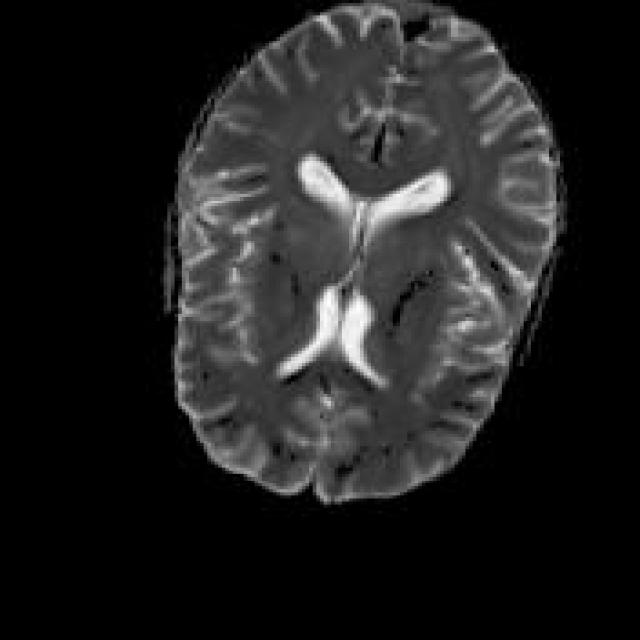parkinson: (160, 0, 567, 505)
